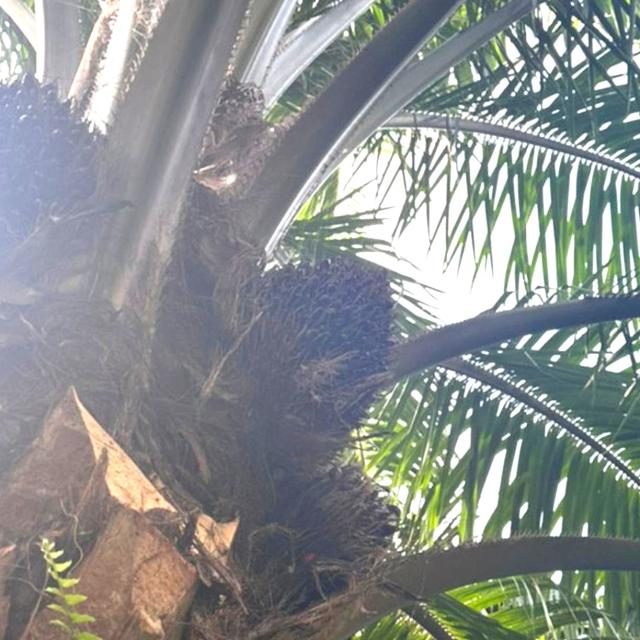unripe: (233, 256, 404, 427)
